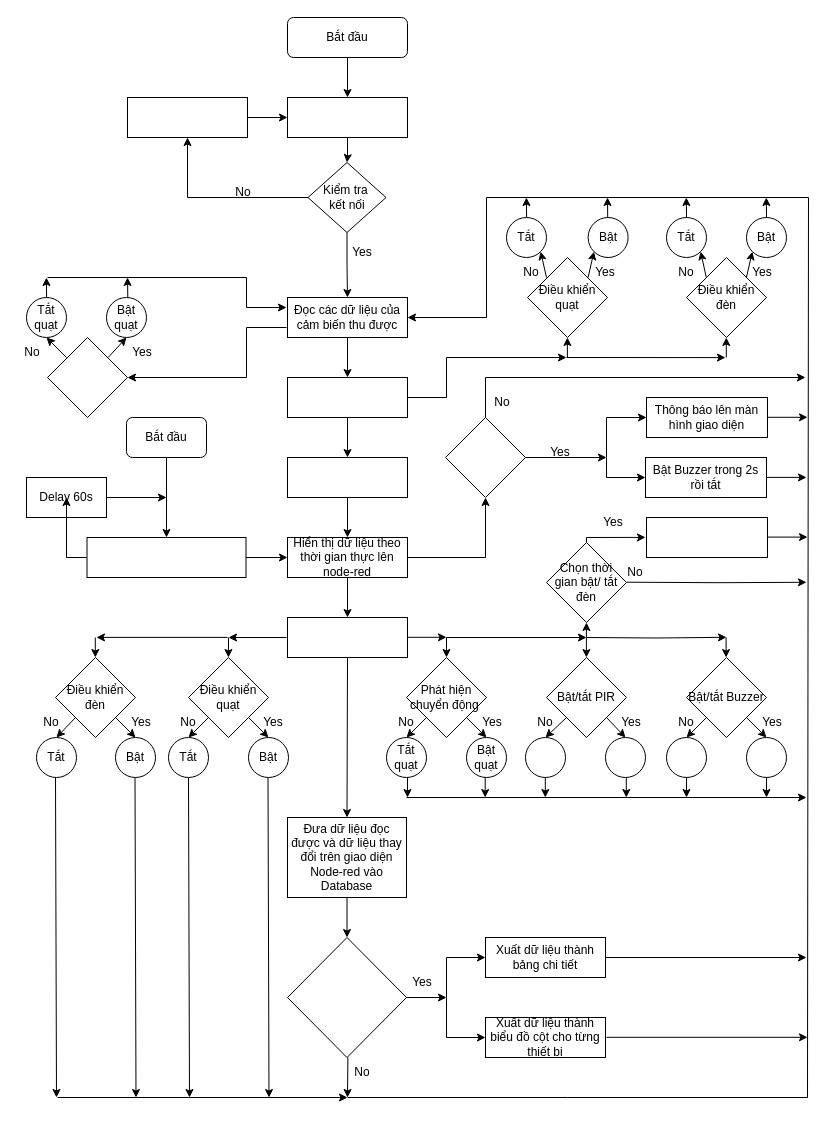
This 834x1123 diagram has some shape labels left out. Here are the shapes that lost their labels. From the top down, the centre of each, then its label:
At pixel 187 117: "In ra màn hình lỗi".
At pixel 347 117: "Kết nối Wifi".
At pixel 87 377: "Nhiệt độ vượt ngưỡng".
At pixel 347 397: "Đọc trạng thái nút nhấn".
At pixel 347 477: "In ra màn hình Serial và OLED các giá trị đọc được".
At pixel 485 457: "Ngưỡng khí gas vượt ngưỡng".
At pixel 166 557: "Lấy dữ liệu từ openweathermap.org".
At pixel 707 537: "Đến thời gian đã chọn đèn sẽ tự bật/tắt".
At pixel 347 637: "Điều khiển trên Node-red".
At pixel 545 757: "Tắt PIR".
At pixel 625 757: "Bật PIR".
At pixel 686 757: "Tắt Buzzer".
At pixel 766 757: "Bật Buzzer".
At pixel 346 997: "Truy xuất dữ liệu của từng thiết bị theo ngày hoặc theo phòng".
